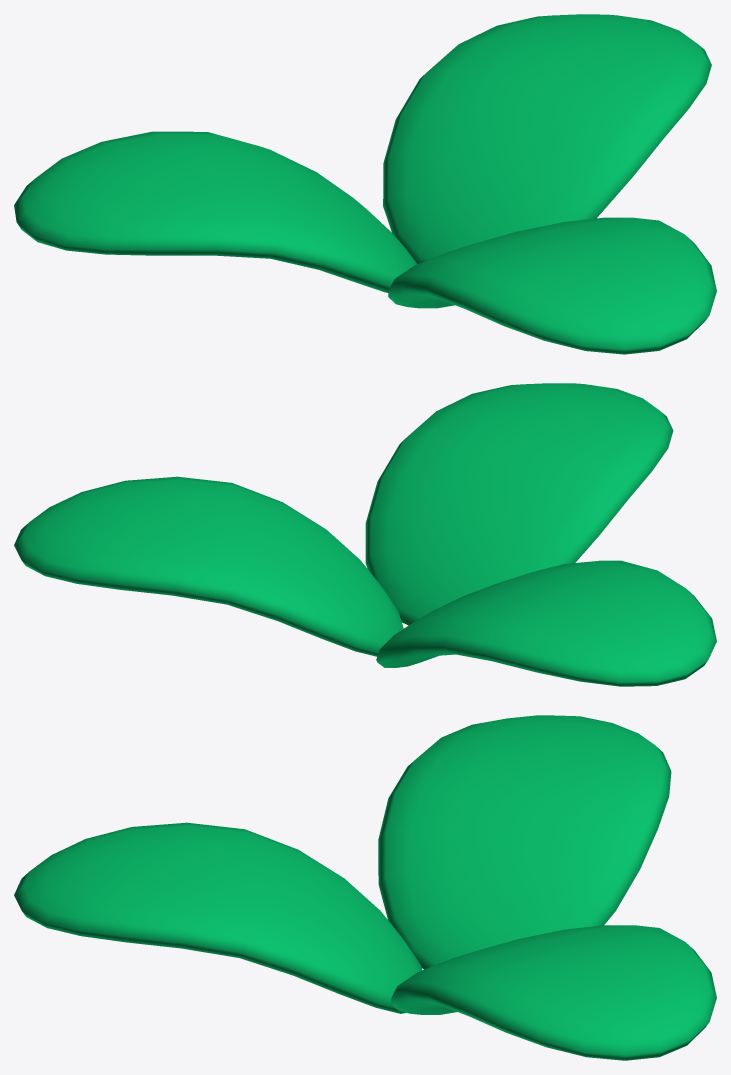
Rendered from Farm_15_Grass_2.glb.
3 renders of one model, top to bottom at view 1: azimuth 30°, elevation 25°; view 2: azimuth 150°, elevation 25°; view 3: azimuth 270°, elevation 25°, orthographic. The views are drawn at different scales.
Parts seen in each view (by area): view 1: Farm_15_Grass_2; view 2: Farm_15_Grass_2; view 3: Farm_15_Grass_2.
Boxes of the visible parts, box(x1,y1,x2,y2) form: Farm_15_Grass_2: box(14, 14, 716, 354); Farm_15_Grass_2: box(14, 383, 716, 686); Farm_15_Grass_2: box(14, 715, 716, 1060).
Size of the model in its own units: 0.6264 by 0.1215 by 0.5552.
1 material, 1 textured.
